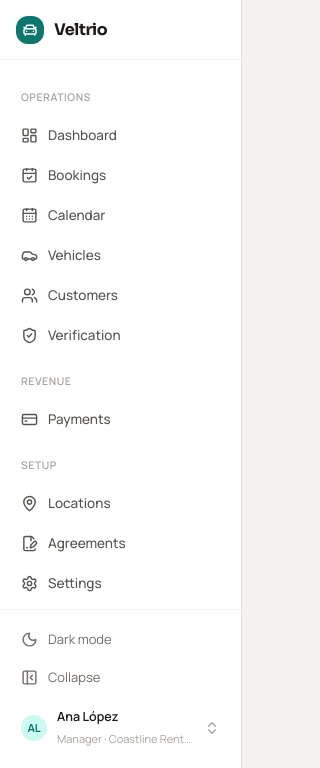
Sidebar on a phone and on a desktop › lets Escape close an open account menu without closing the drawer
Click the button with aria-label "Account menu". click: (120,728)
box: [12,698,229,758]
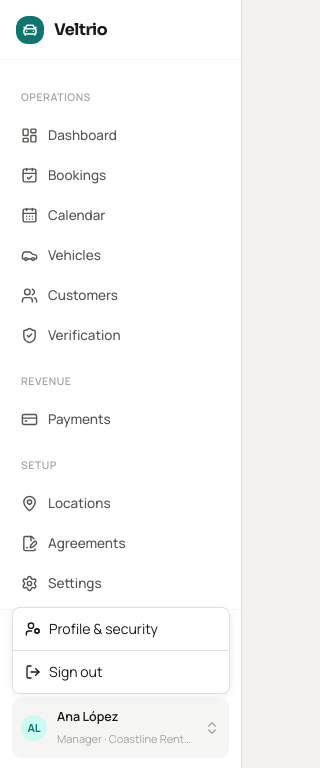
Press Escape
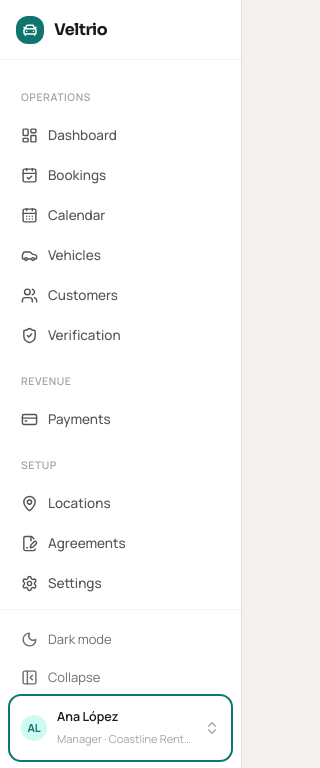
Result: the menu is gone
